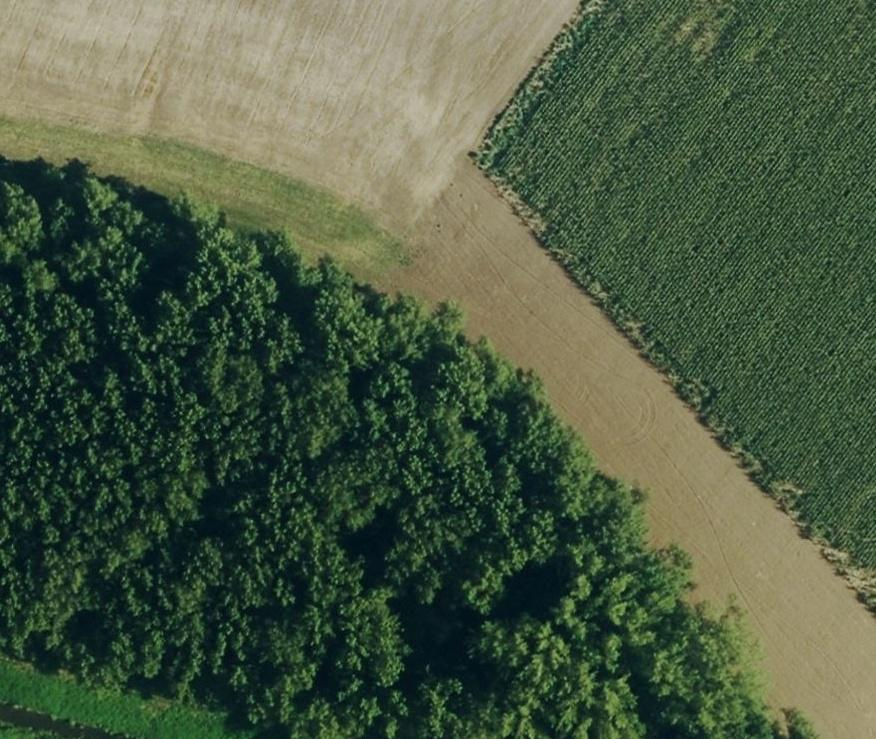field: (0, 0, 876, 736)
forest: (0, 158, 773, 737)
